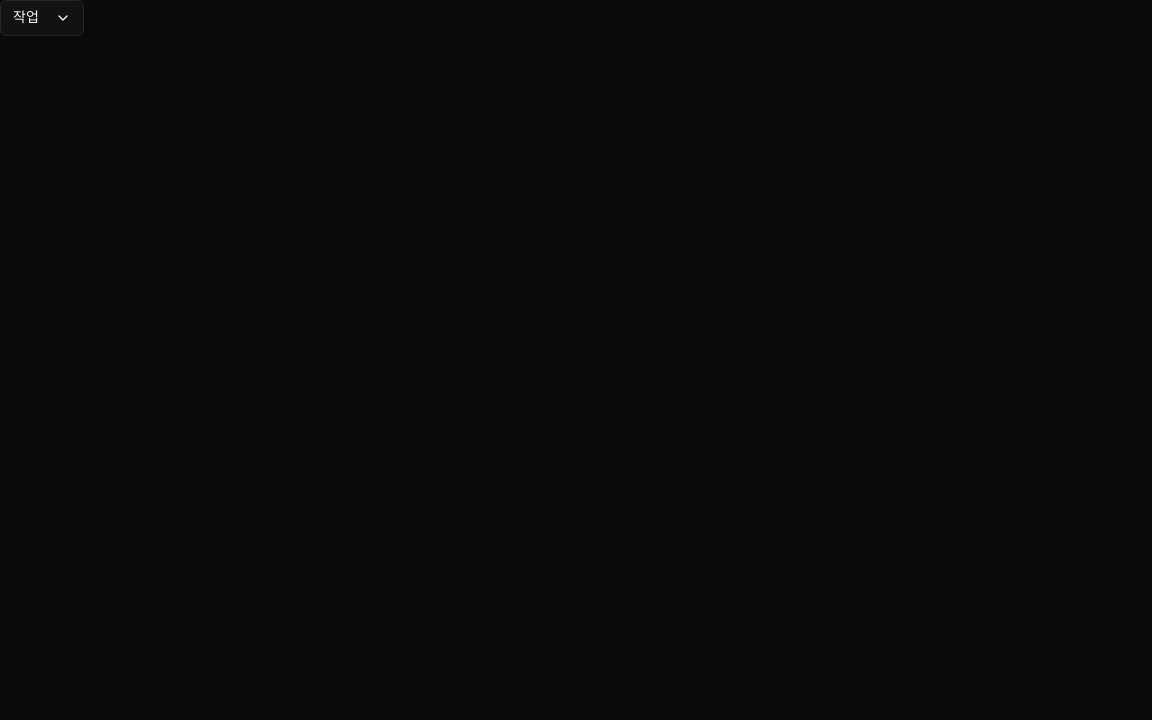
Test: MembersActionsDropdown › opens menu and triggers change-tier dialog
This screenshot has width=1152, height=720.
Step 1. Click the button "작업" → click(42, 18), box x1=0 y1=0 x2=84 y2=36
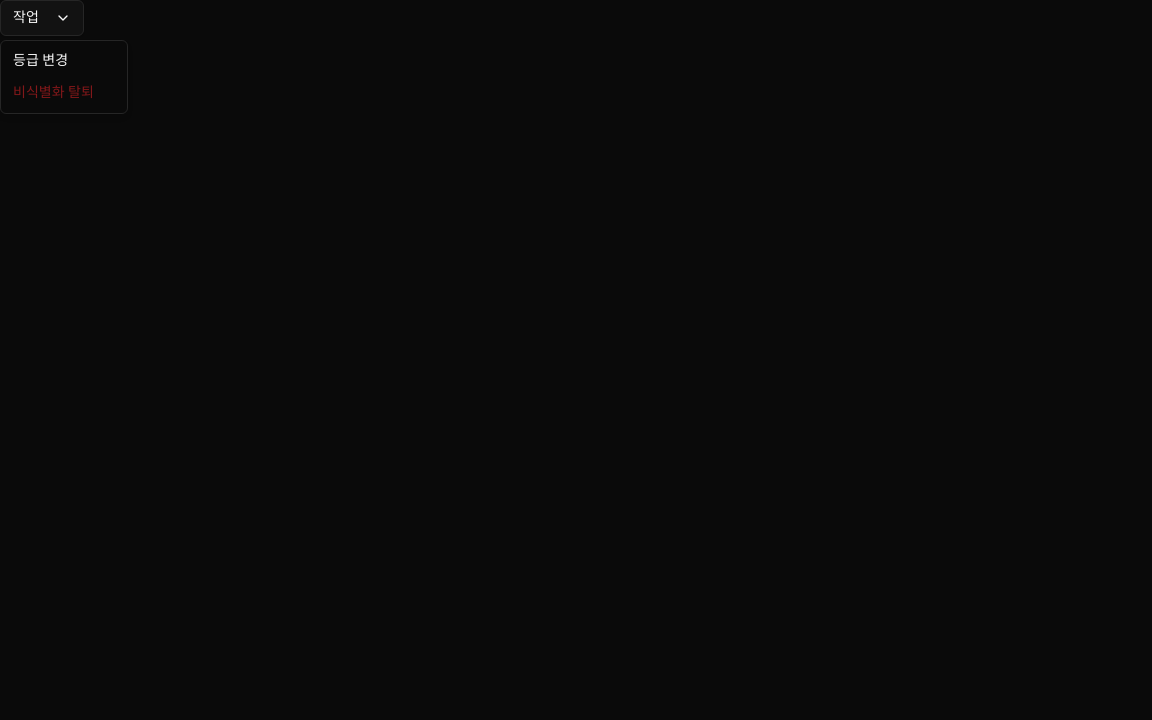
Step 2. Click the menu item "등급 변경" → click(40, 60), box x1=13 y1=53 x2=68 y2=68
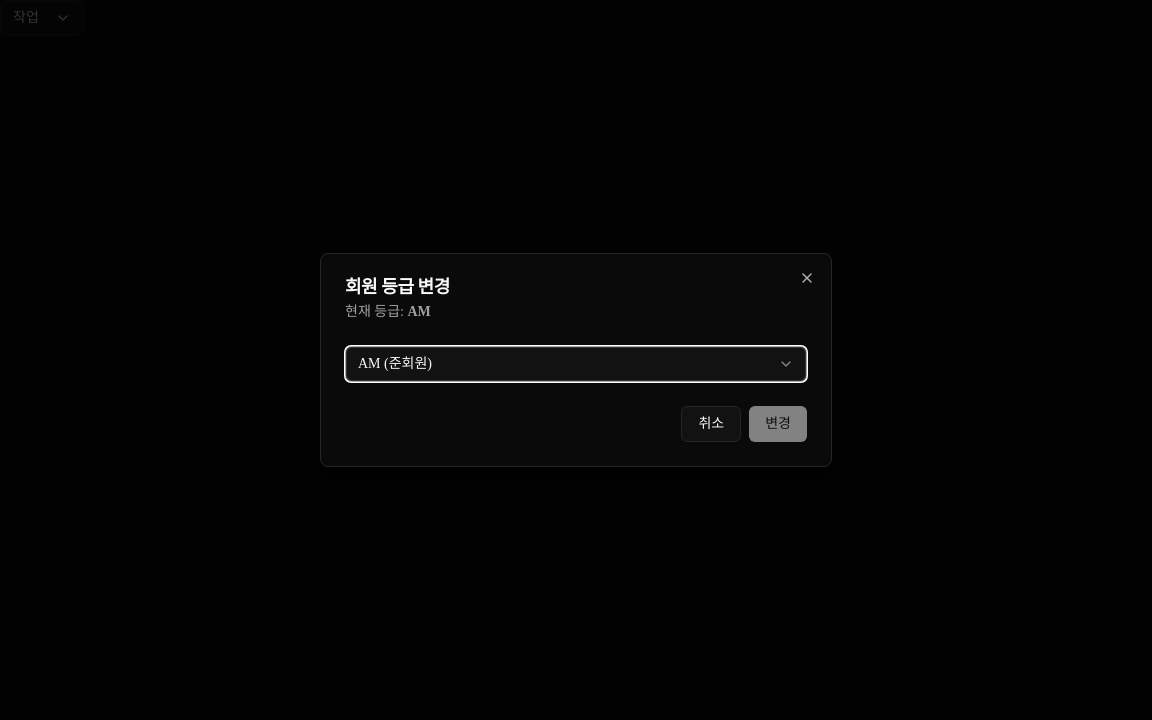
Result: the heading "회원 등급 변경" is shown at x1=345 y1=277 x2=450 y2=297
